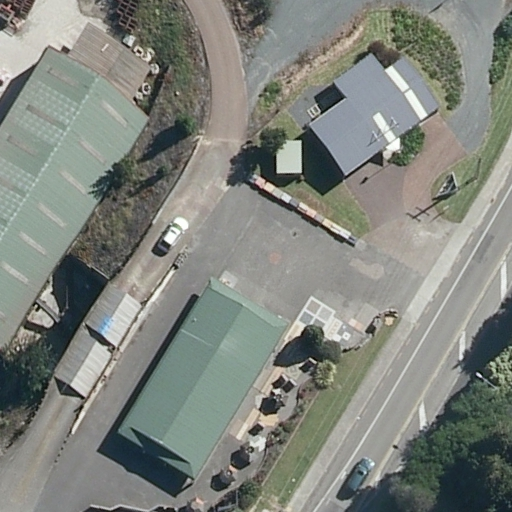DT: (467, 149, 490, 183)
